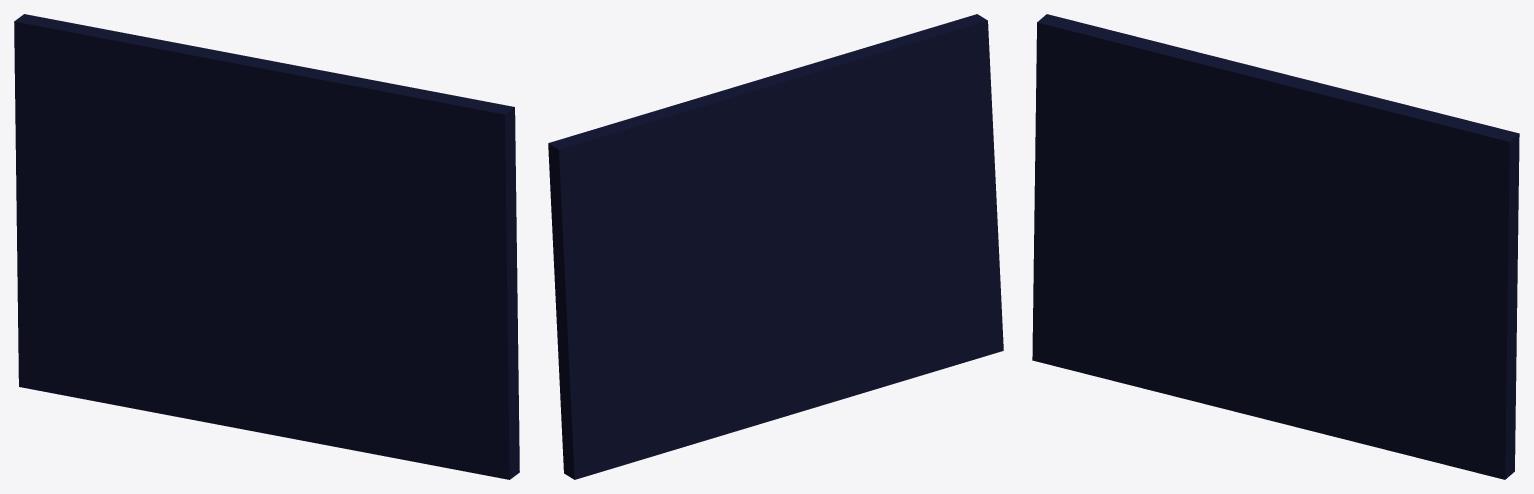
Rendered from window1.glb.
The picture shows the model from 3 angles, left to right: view 1: azimuth 90°, elevation 25°; view 2: azimuth 150°, elevation 25°; view 3: azimuth 270°, elevation 25°; orthographic projection. The views are drawn at different scales.
Parts seen in each view (by area): view 1: Box001; view 2: Box001; view 3: Box001.
Part boxes in pixels (x1,y1,x2,y2): Box001: (14, 14, 519, 479); Box001: (548, 14, 1003, 479); Box001: (1032, 14, 1519, 479).
Size of the model in its own units: 0.7372 by 1.04 by 1.27.
